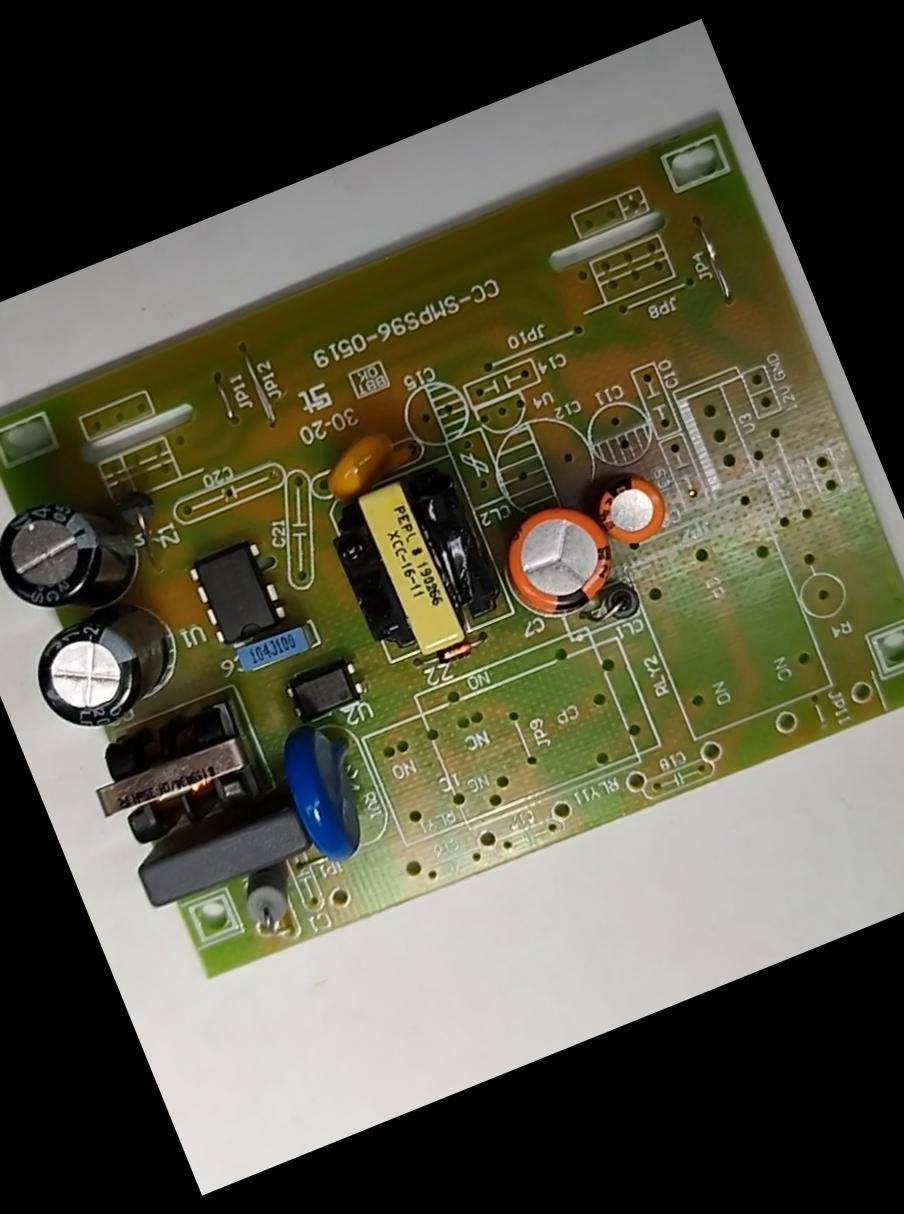Cap1: (483, 484, 632, 636)
Cap2: (582, 462, 680, 562)
Cap3: (11, 584, 198, 751)
Cap4: (0, 468, 158, 631)
MOSFET: (172, 522, 302, 666)
Mov: (259, 708, 393, 882)
Resistor: (226, 854, 311, 940)
Transformer: (302, 443, 526, 686), (62, 677, 284, 868)
